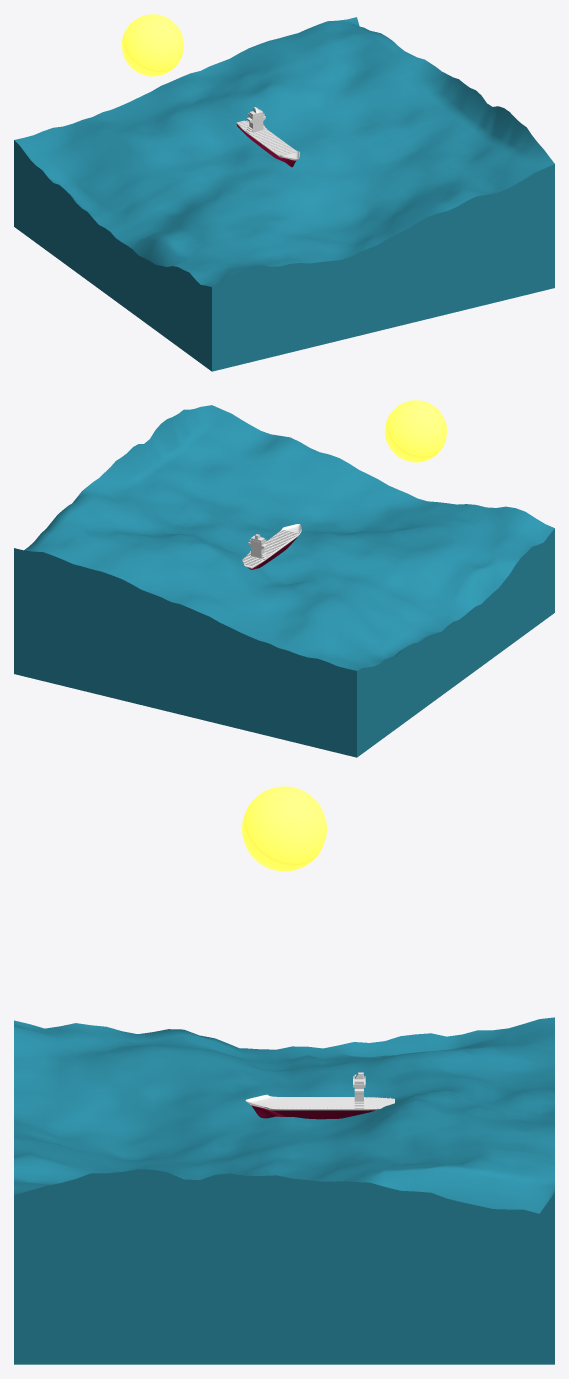
File: Panamax_E_LR.glb
3 renders of one model, top to bottom at view 1: azimuth 30°, elevation 25°; view 2: azimuth 150°, elevation 25°; view 3: azimuth 270°, elevation 25°, orthographic. The views are drawn at different scales.
Parts seen in each view (by area): view 1: pCube2_displacement1, pSphere1, pasted__pasted__pCube87; view 2: pCube2_displacement1, pSphere1, pasted__pasted__pCube87; view 3: pCube2_displacement1, pSphere1, pasted__pasted__pCube87.
Boxes of the visible parts, x1,y1,x2,y2 form: pCube2_displacement1: (14, 17, 554, 371); pSphere1: (122, 14, 183, 76); pasted__pasted__pCube87: (236, 120, 299, 167); pCube2_displacement1: (14, 405, 554, 757); pSphere1: (385, 400, 446, 462); pasted__pasted__pCube87: (242, 524, 301, 569); pCube2_displacement1: (14, 1017, 554, 1364); pSphere1: (242, 786, 326, 871); pasted__pasted__pCube87: (245, 1094, 394, 1119).
Bounding box in the file's own units: 0.1269 × 0.0963 × 0.1269.
